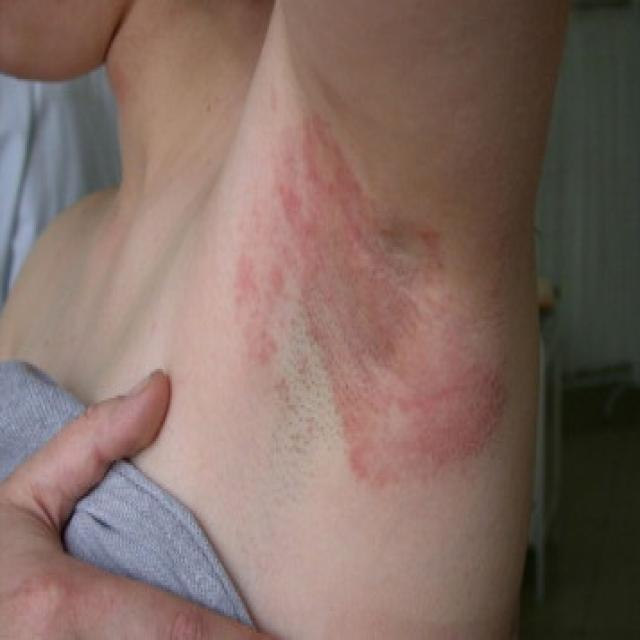Eczema: (244, 120, 518, 489)
